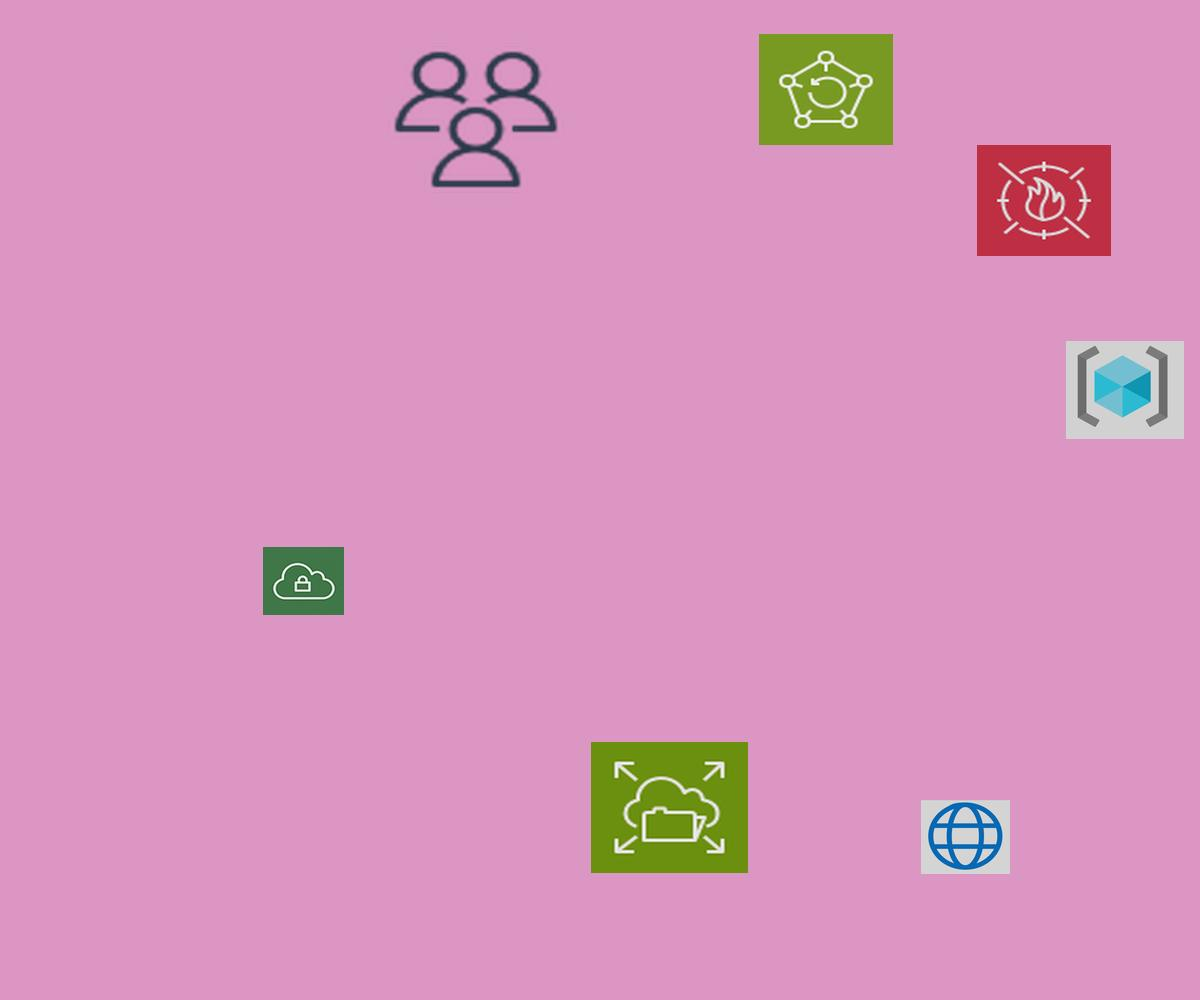AWS-Backup: (759, 34, 893, 145)
AWS-EFS: (591, 742, 748, 873)
AWS-Private_vpc: (263, 547, 344, 615)
AWS-Res_Users: (388, 46, 564, 193)
AWS-WAF: (977, 145, 1111, 256)
Azure_http: (921, 800, 1010, 874)
Azure_resource_group: (1066, 341, 1184, 439)
